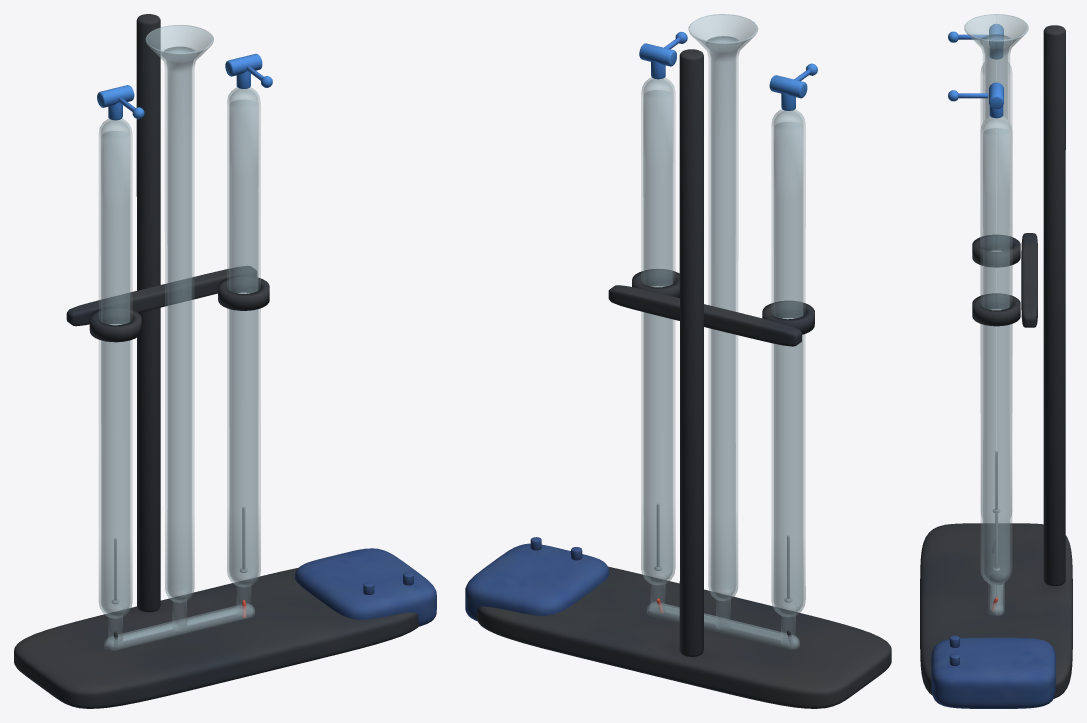
File: hofmann-voltameter.glb
3 views of the same model, side by side, from view 1: azimuth 30°, elevation 25°; view 2: azimuth 150°, elevation 25°; view 3: azimuth 270°, elevation 25° (orthographic). The views are drawn at different scales.
Visible parts, largest first — view 1: hofmann-voltameter-glass, hofmann-voltameter-stand, hofmann-voltameter-inner-centre, hofmann-voltameter-inner-left, hofmann-voltameter-inner-right, hofmann-voltameter-battery, hofmann-voltameter-taps; view 2: hofmann-voltameter-glass, hofmann-voltameter-stand, hofmann-voltameter-inner-left, hofmann-voltameter-inner-centre, hofmann-voltameter-inner-right, hofmann-voltameter-battery, hofmann-voltameter-taps; view 3: hofmann-voltameter-stand, hofmann-voltameter-glass, hofmann-voltameter-inner-right, hofmann-voltameter-battery, hofmann-voltameter-taps, hofmann-voltameter-inner-centre, hofmann-voltameter-electrodes.
Boxes of the visible parts, box(x1,y1,x2,y2) form: hofmann-voltameter-glass: box(98, 24, 260, 650); hofmann-voltameter-stand: box(14, 14, 419, 708); hofmann-voltameter-inner-centre: box(162, 46, 196, 599); hofmann-voltameter-inner-left: box(101, 131, 129, 615); hofmann-voltameter-inner-right: box(230, 99, 257, 583); hofmann-voltameter-battery: box(295, 548, 436, 626); hofmann-voltameter-taps: box(97, 53, 272, 120); hofmann-voltameter-glass: box(641, 14, 805, 649); hofmann-voltameter-stand: box(477, 49, 891, 708); hofmann-voltameter-inner-left: box(774, 122, 802, 613); hofmann-voltameter-inner-centre: box(706, 36, 740, 597); hofmann-voltameter-inner-right: box(644, 90, 672, 581); hofmann-voltameter-battery: box(465, 537, 609, 621); hofmann-voltameter-taps: box(639, 32, 817, 110); hofmann-voltameter-stand: box(920, 25, 1072, 698); hofmann-voltameter-glass: box(964, 14, 1028, 615); hofmann-voltameter-inner-right: box(983, 128, 1009, 581); hofmann-voltameter-battery: box(931, 635, 1055, 708); hofmann-voltameter-taps: box(948, 24, 1003, 118); hofmann-voltameter-inner-centre: box(980, 34, 1012, 118); hofmann-voltameter-electrodes: box(993, 451, 999, 571).
Size of what is drawn, in the model's own units: 29.16 by 46.12 by 11.
